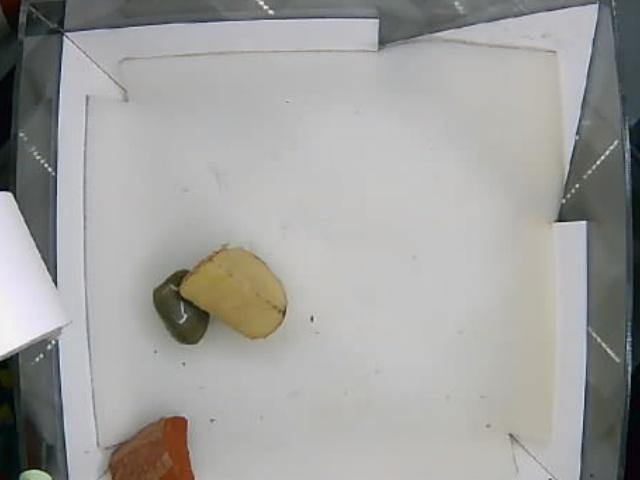Brisk: (110, 416, 196, 479)
Pebble: (154, 265, 209, 346)
Potato: (187, 248, 291, 340)
